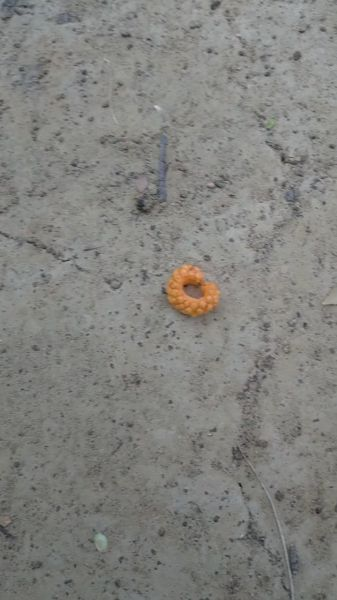eggs: (169, 255, 224, 323)
